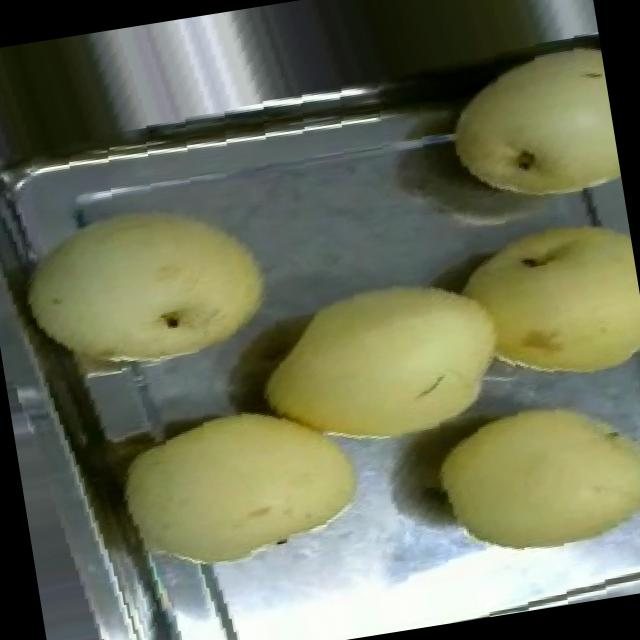Fruit: (91, 370, 391, 604), (0, 173, 294, 403), (238, 254, 521, 474), (412, 372, 640, 584), (440, 191, 640, 406), (435, 35, 625, 227)
